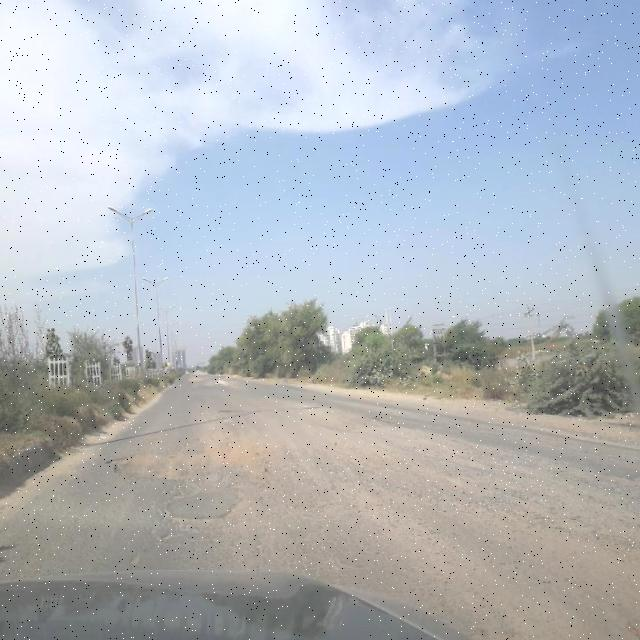D20: (155, 485, 448, 576)
D40: (100, 414, 324, 482)
